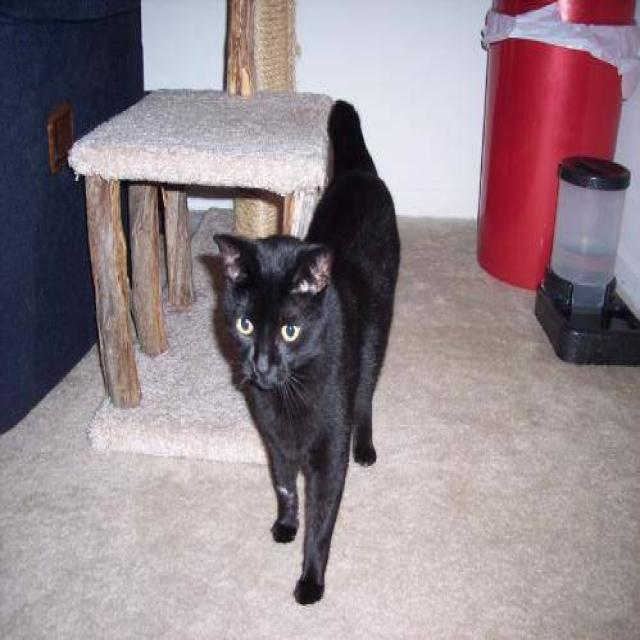cat: (210, 97, 400, 604)
